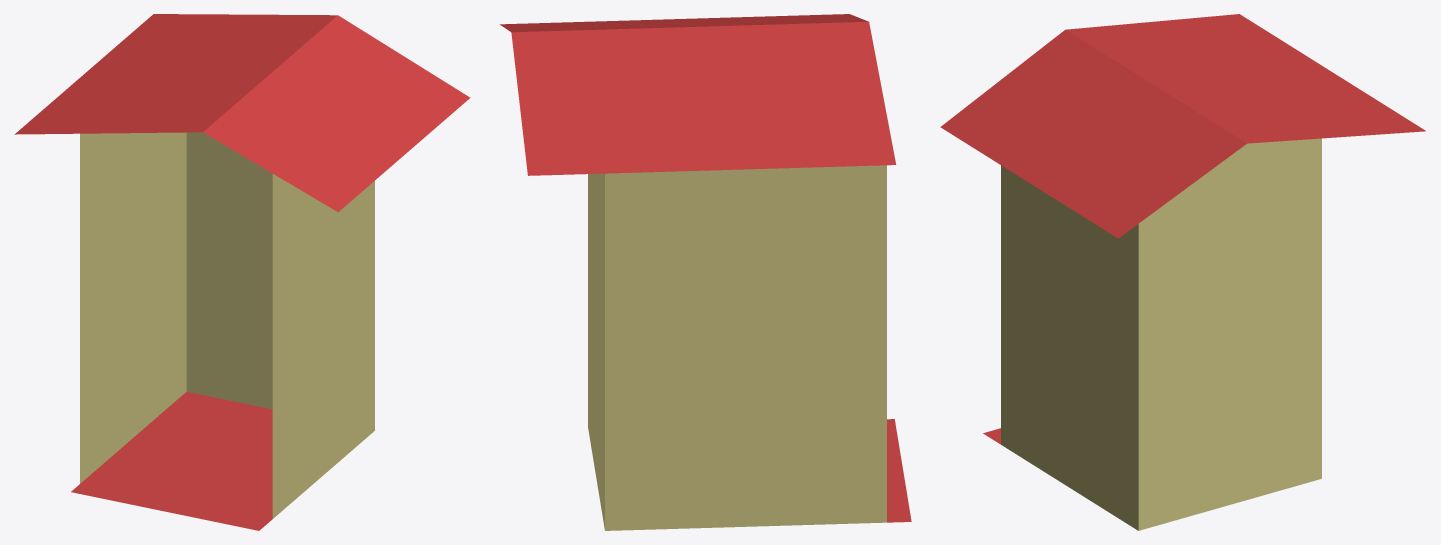
The picture shows the model from 3 angles, left to right: view 1: azimuth 30°, elevation 25°; view 2: azimuth 150°, elevation 25°; view 3: azimuth 270°, elevation 25°; orthographic projection. The views are drawn at different scales.
Bounding box in the file's own units: 6.44 × 6.46 × 5.78.
